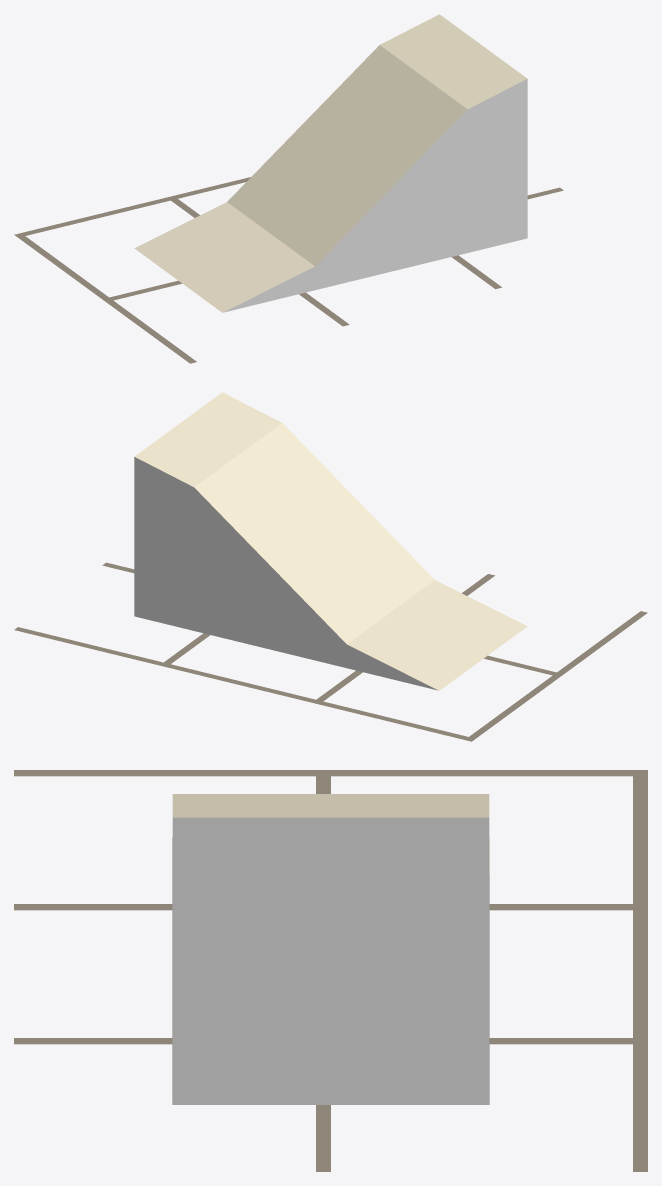
File: Path_Terrain_Incline_Sharp_Center_1x2.glb
3 views of the same model, one above another, from view 1: azimuth 30°, elevation 25°; view 2: azimuth 150°, elevation 25°; view 3: azimuth 270°, elevation 25° (orthographic). The views are drawn at different scales.
Parts seen in each view (by area): view 1: Path_Terrain_Incline_Sharp_Center_1x2, Floor; view 2: Path_Terrain_Incline_Sharp_Center_1x2, Floor; view 3: Path_Terrain_Incline_Sharp_Center_1x2, Floor.
Boxes of the visible parts, x1,y1,x2,y2 form: Path_Terrain_Incline_Sharp_Center_1x2: [134, 14, 527, 312]; Floor: [14, 177, 563, 363]; Path_Terrain_Incline_Sharp_Center_1x2: [134, 392, 527, 690]; Floor: [14, 562, 647, 741]; Path_Terrain_Incline_Sharp_Center_1x2: [172, 794, 489, 1104]; Floor: [14, 770, 647, 1171].
Bounding box in the file's own units: 300 × 100 × 200.
3 materials, 1 textured.
